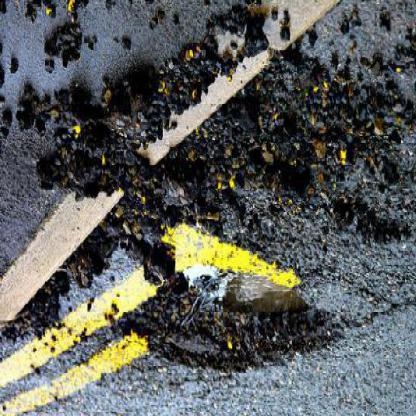pothole: (120, 276, 346, 380)
